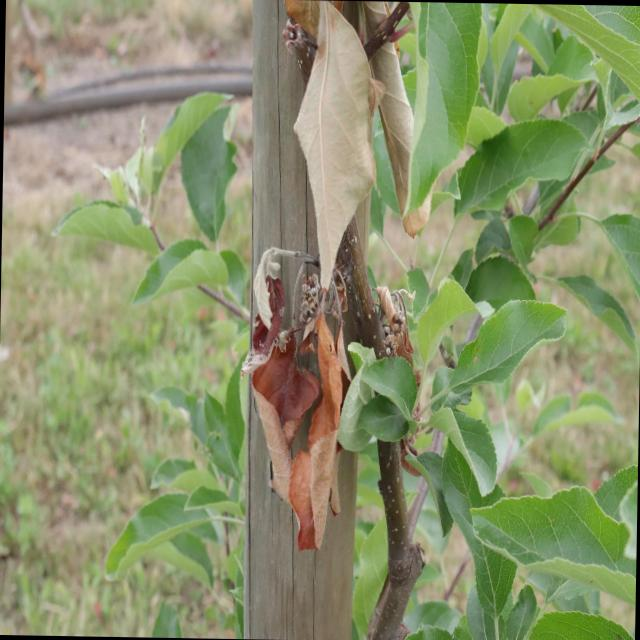-FireBlight-: (240, 232, 349, 557), (291, 0, 420, 249)
